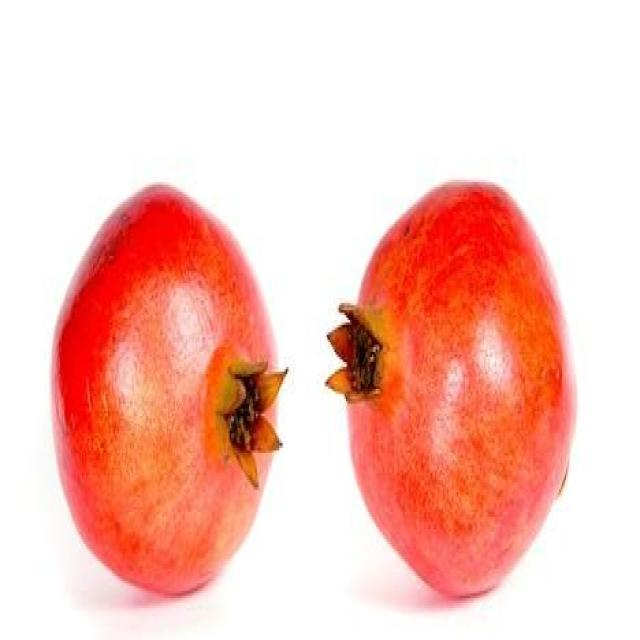Pomegranate: (326, 174, 580, 598), (48, 180, 290, 598)
